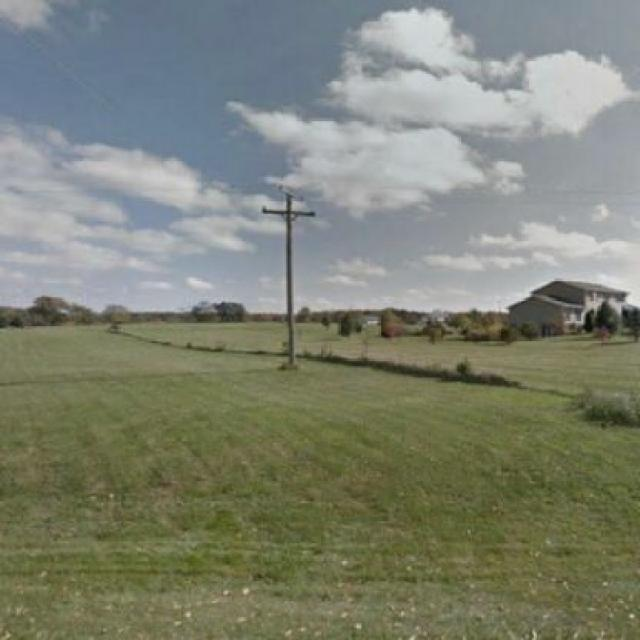crossarm: (260, 202, 317, 222)
pole: (286, 195, 295, 365)
